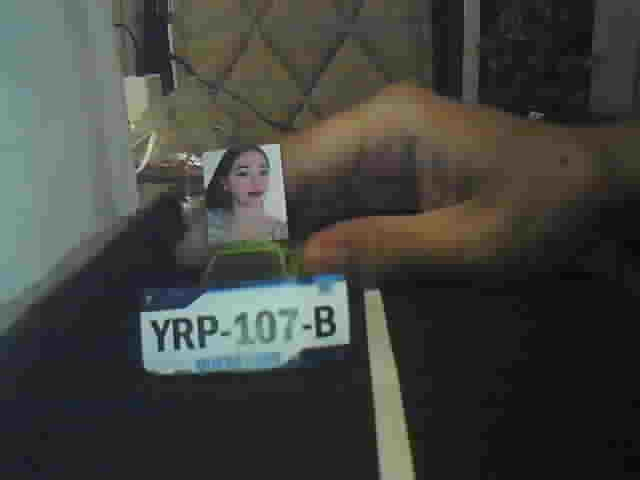PLACA: (137, 271, 353, 381)
ROSTRO: (210, 148, 287, 240)
